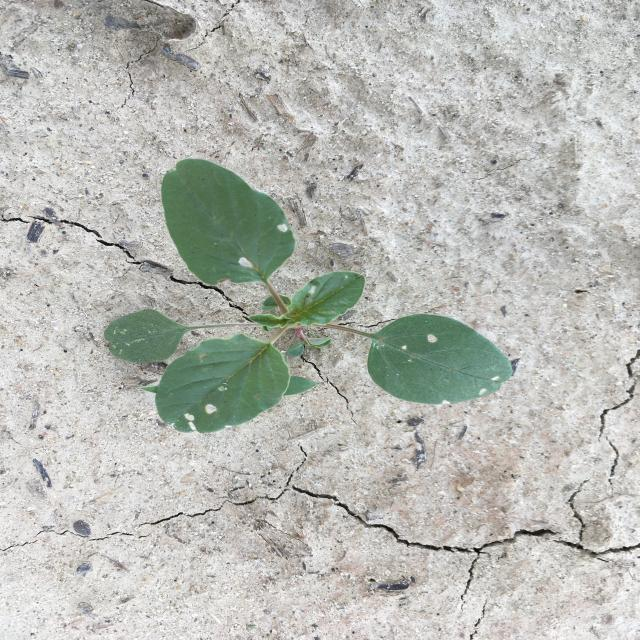PalmerAmaranth: (105, 158, 513, 434)
